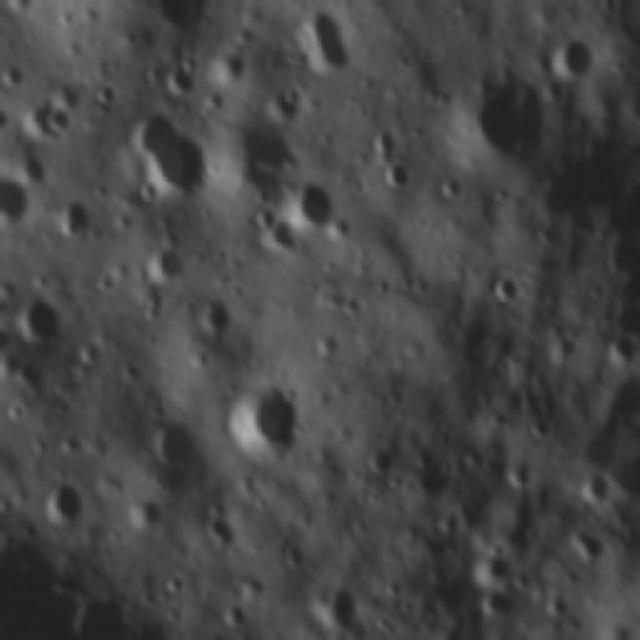crater: (221, 377, 299, 460), (127, 119, 210, 195), (286, 11, 362, 80), (8, 296, 64, 350), (550, 34, 608, 84), (38, 480, 79, 534), (284, 181, 341, 219), (557, 523, 598, 560), (168, 71, 201, 100), (212, 606, 246, 634), (608, 335, 634, 371), (95, 79, 122, 113), (385, 155, 410, 191), (578, 470, 608, 498), (368, 122, 395, 153), (50, 208, 82, 234), (523, 412, 551, 441), (501, 274, 532, 300), (39, 103, 67, 129), (141, 289, 162, 322), (253, 202, 278, 227), (339, 292, 359, 320), (157, 570, 178, 592), (505, 468, 533, 484), (483, 594, 506, 611), (371, 616, 392, 632)
